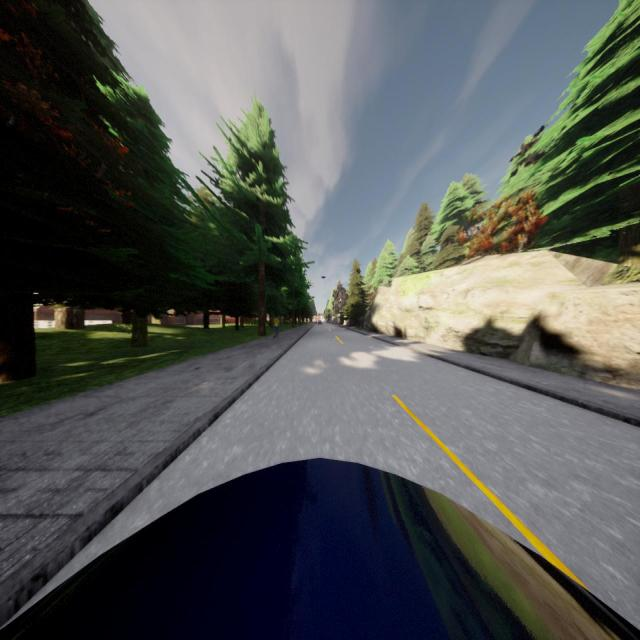Pedestrian: (272, 316, 279, 338)
Vehicle: (0, 458, 640, 640), (317, 320, 323, 325)
